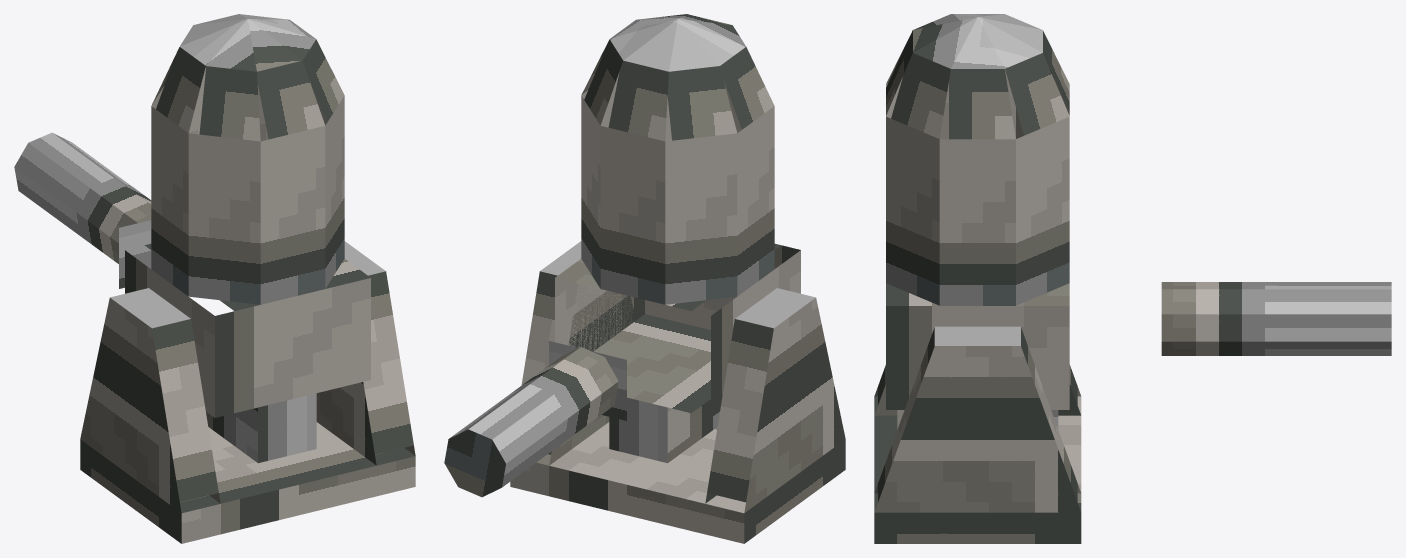
The model's file is ciws.obj.
3 views of the same model, side by side, from view 1: azimuth 30°, elevation 25°; view 2: azimuth 150°, elevation 25°; view 3: azimuth 270°, elevation 25° (orthographic). The views are drawn at different scales.
Parts seen in each view (by area): view 1: cylinder6, cylinder3, cube1, sphere, cube, cylinder5, cylinder, cube2, cylinder4; view 2: cylinder6, cylinder3, sphere, cube1, cube, cylinder5, cylinder, cube2, cylinder4; view 3: cylinder6, cylinder, sphere, cylinder5, cube1, cube, cylinder3.
Boxes of the visible parts, bbox=[...] form: cylinder6: bbox=[151, 67, 344, 304]; cylinder3: bbox=[80, 288, 220, 512]; cube1: bbox=[125, 243, 370, 417]; sphere: bbox=[152, 14, 344, 141]; cube: bbox=[80, 422, 415, 543]; cylinder5: bbox=[14, 132, 151, 263]; cylinder: bbox=[316, 241, 415, 465]; cube2: bbox=[206, 393, 316, 463]; cylinder4: bbox=[119, 220, 151, 288]; cylinder6: bbox=[581, 72, 774, 304]; cylinder3: bbox=[705, 288, 845, 512]; sphere: bbox=[581, 14, 774, 141]; cube1: bbox=[555, 243, 800, 417]; cube: bbox=[510, 422, 845, 543]; cylinder5: bbox=[444, 347, 618, 497]; cylinder: bbox=[521, 241, 635, 465]; cube2: bbox=[609, 397, 719, 463]; cylinder4: bbox=[549, 341, 626, 420]; cylinder6: bbox=[886, 69, 1069, 305]; cylinder: bbox=[874, 326, 1080, 512]; sphere: bbox=[886, 14, 1069, 139]; cylinder5: bbox=[1161, 282, 1391, 355]; cube1: bbox=[886, 283, 1069, 409]; cube: bbox=[874, 396, 1081, 543]; cylinder3: bbox=[874, 365, 1080, 415].
Bounding box in the file's own units: 1.5 × 2.81 × 2.81.
